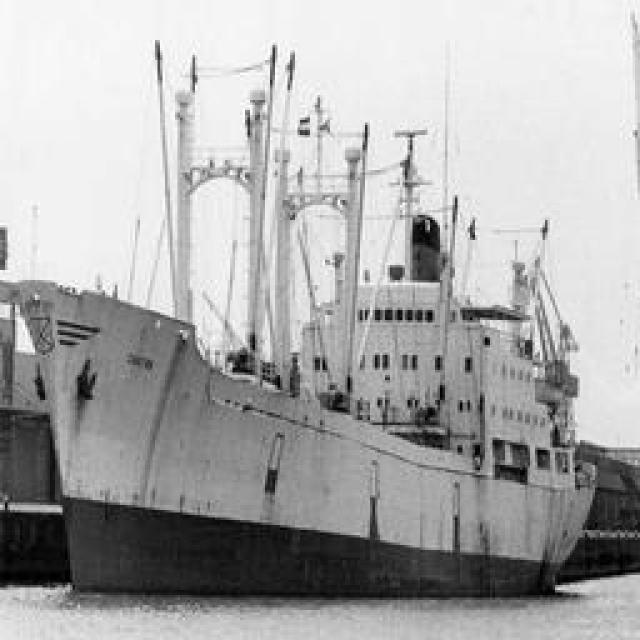Ship: (15, 166, 610, 604)
